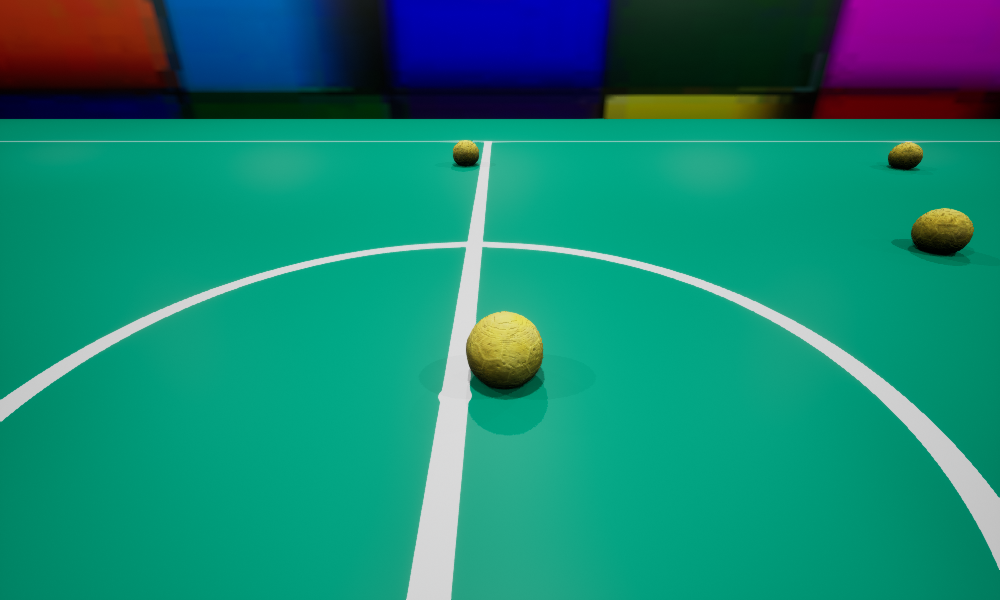b: (466, 311, 542, 388), (911, 208, 973, 253), (888, 142, 922, 168), (453, 140, 478, 165)
